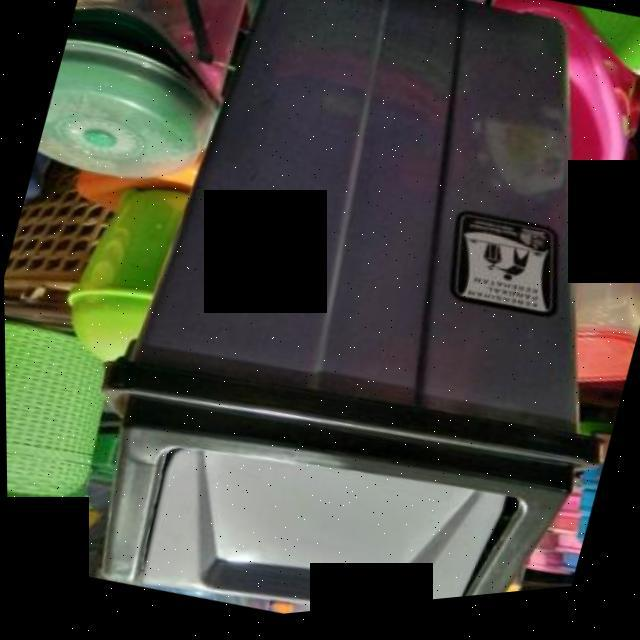bin: (38, 0, 640, 637)
